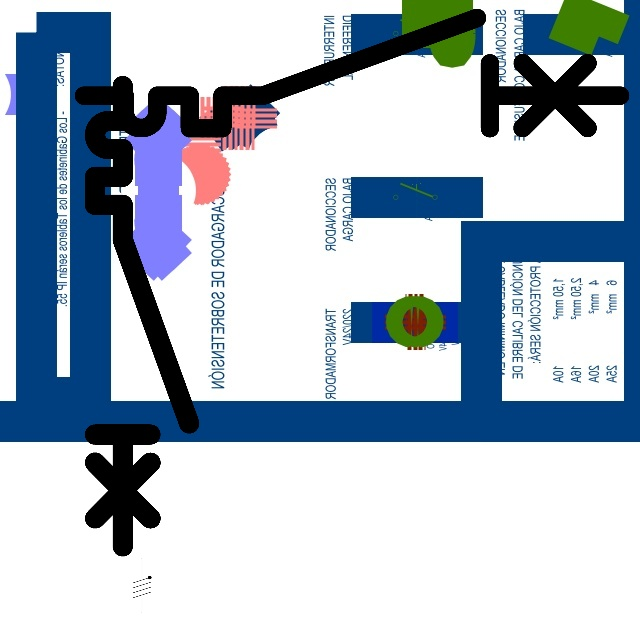interruptor_termomagnetico: (70, 4, 634, 142), (83, 74, 201, 558)
